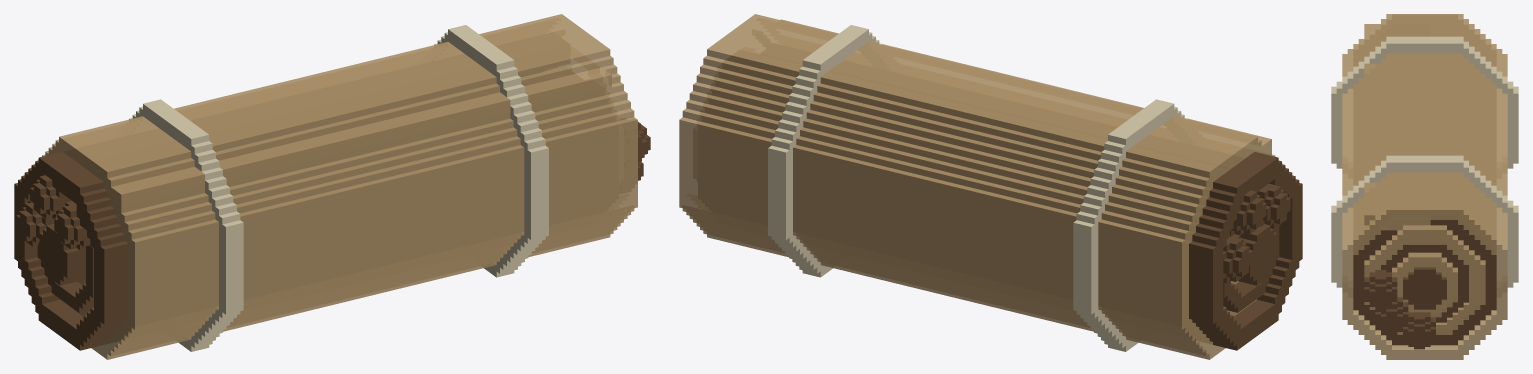
Rendered from cured_pelt.glb.
3 views of the same model, side by side, from view 1: azimuth 30°, elevation 25°; view 2: azimuth 150°, elevation 25°; view 3: azimuth 270°, elevation 25° (orthographic). The views are drawn at different scales.
Visible parts, largest first — view 1: cured_pelt:compound; view 2: cured_pelt:compound; view 3: cured_pelt:compound.
Part boxes in pixels (x1,y1,x2,y2): cured_pelt:compound: [14, 14, 650, 359]; cured_pelt:compound: [679, 14, 1302, 359]; cured_pelt:compound: [1331, 14, 1518, 359].
Size of the model in its own units: 0.19 by 0.068 by 0.068.
